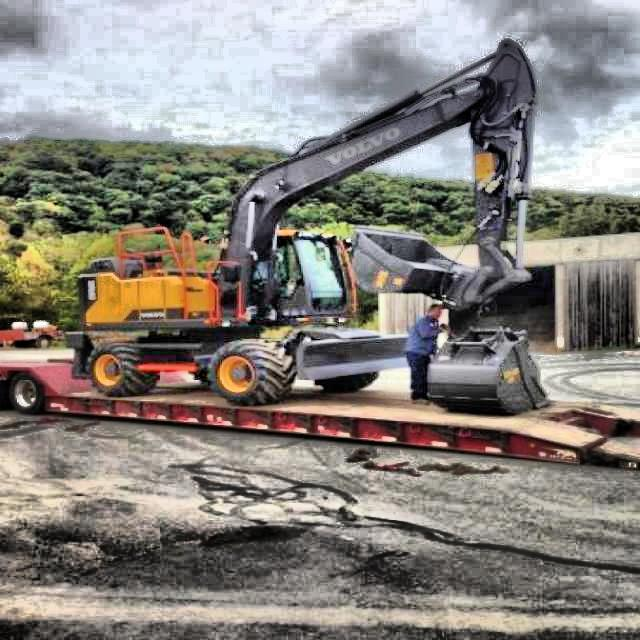bull_dozer/loader/grader: (62, 38, 552, 418)
person: (404, 302, 446, 404)
